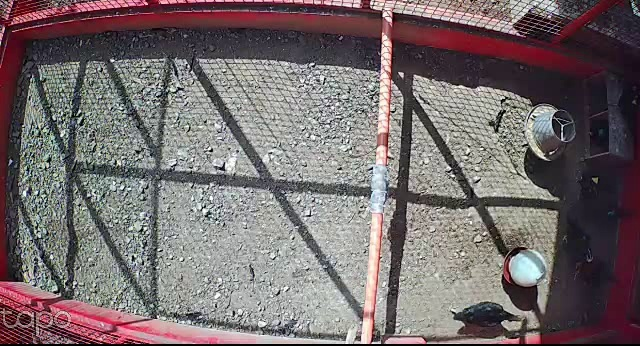Chicken: (447, 300, 533, 329), (571, 167, 616, 206)
Drinker: (501, 247, 549, 288)
Feeder: (523, 101, 579, 164)
Rooster: (566, 239, 622, 291)
Saddle_Color_Yellow: (591, 176, 599, 183)
